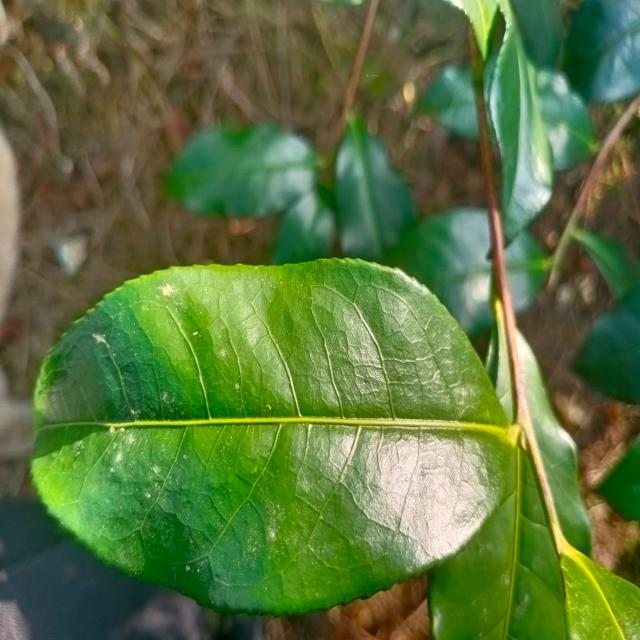Category D 7+ days, Not for Tea: (19, 248, 524, 618)
